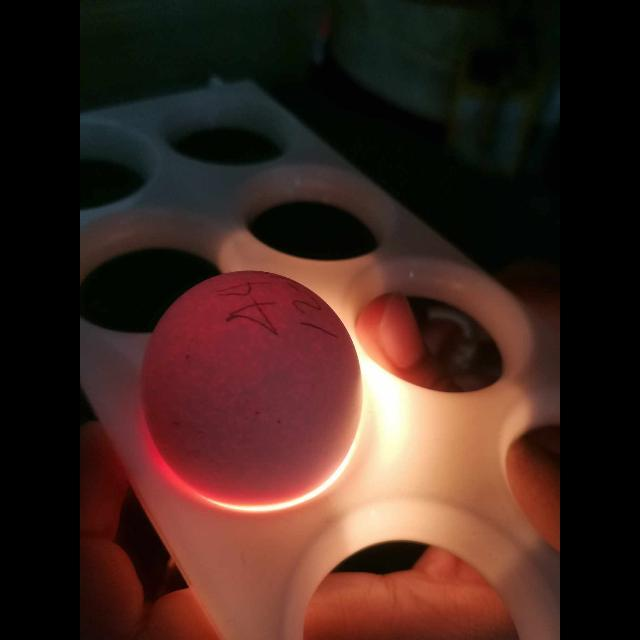Fertile: (142, 271, 364, 499)
